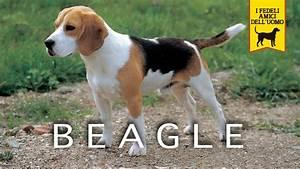dog: (43, 4, 246, 156)
